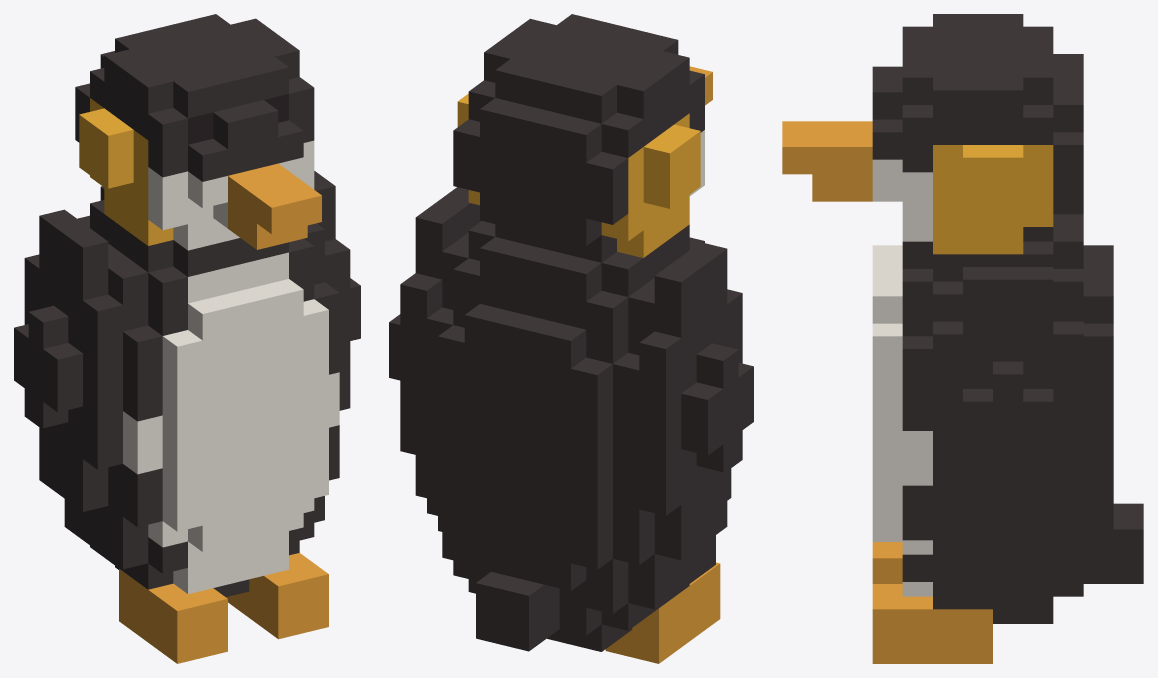
The model's file is penguin.glb.
3 views of the same model, side by side, from view 1: azimuth 30°, elevation 25°; view 2: azimuth 150°, elevation 25°; view 3: azimuth 270°, elevation 25° (orthographic). The views are drawn at different scales.
Parts seen in each view (by area): view 1: penguin; view 2: penguin; view 3: penguin.
Boxes of the visible parts, left/top/right/bottom form: penguin: left=14, top=14, right=360, bottom=663; penguin: left=389, top=14, right=753, bottom=663; penguin: left=782, top=14, right=1143, bottom=663.
Bounding box in the file's own units: 1.2 × 2.1 × 1.2.
1 material, 1 textured.
